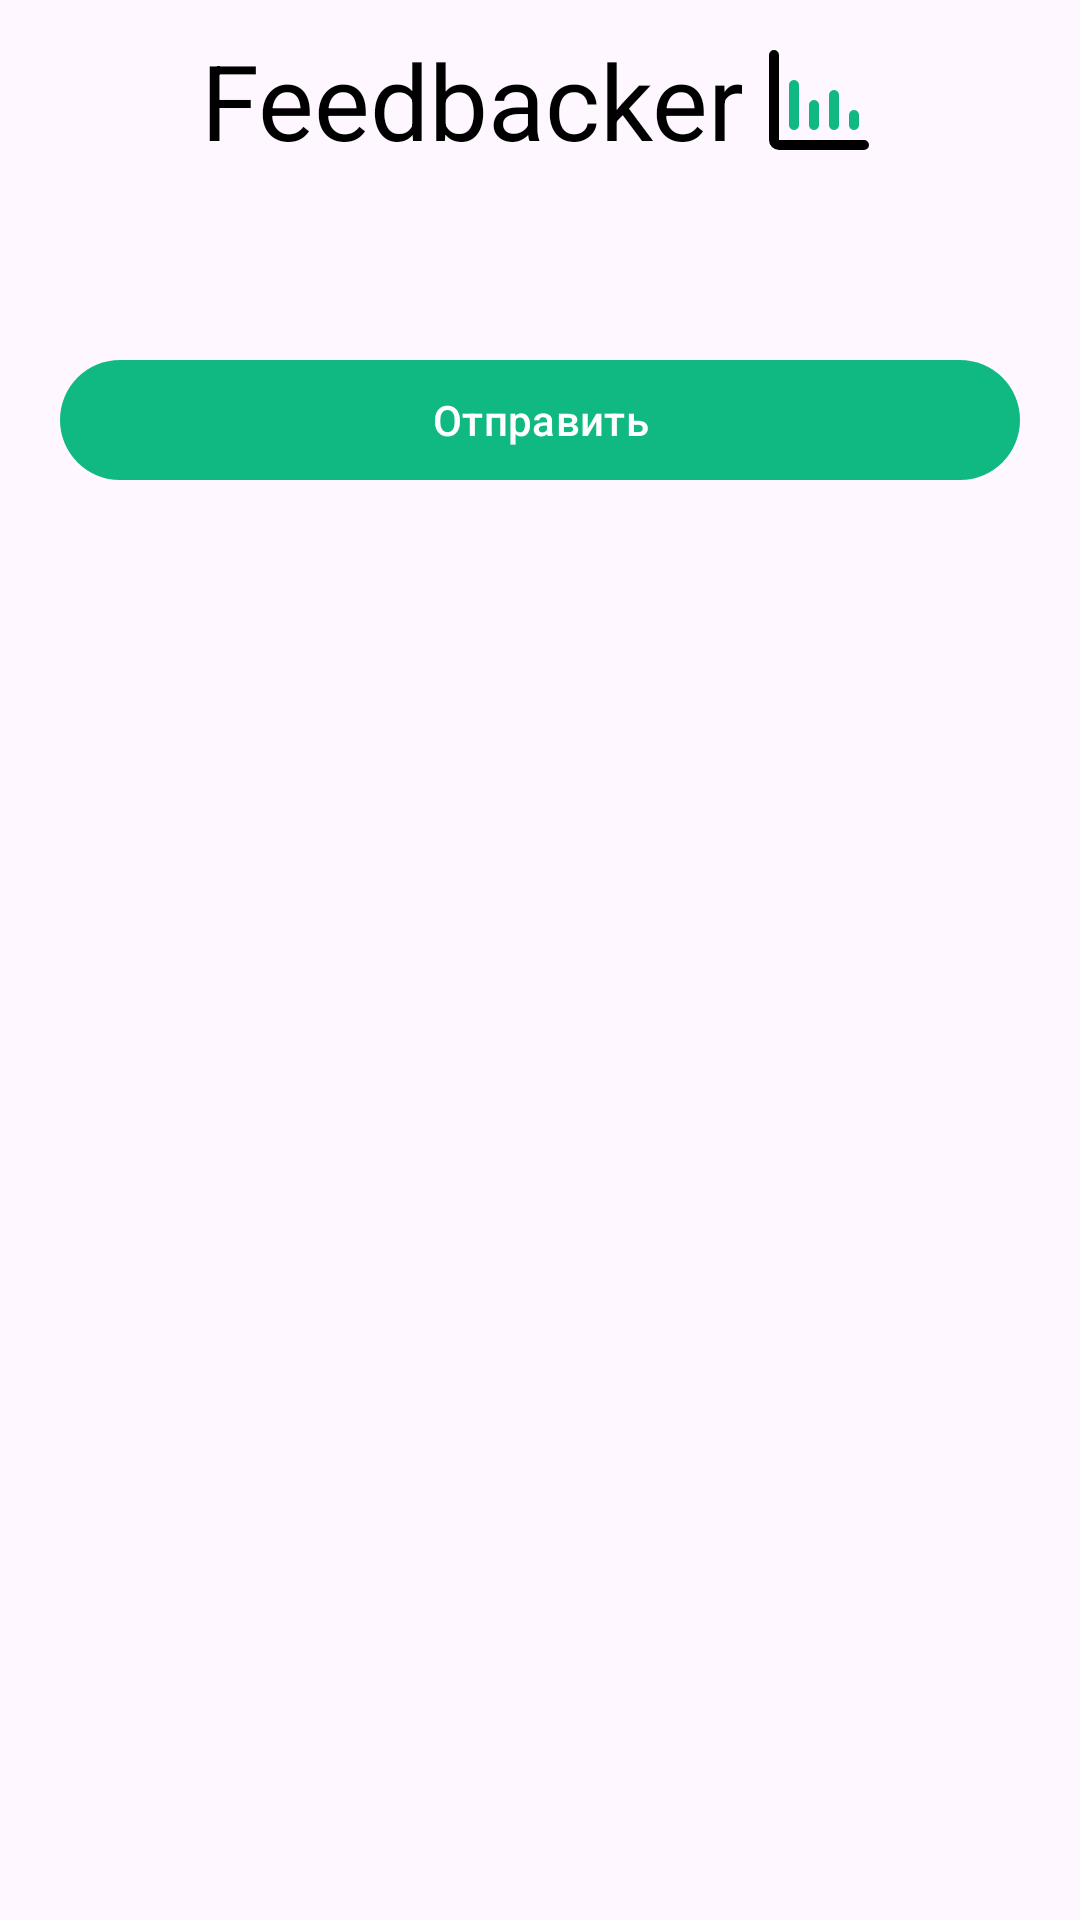

Icons on this 1080 x 1920 Android screen, each with its box as {"x1": x1, "y1": y1, "x2": x2, "y2": y2}:
diagram bar: {"x1": 769, "y1": 50, "x2": 869, "y2": 150}
